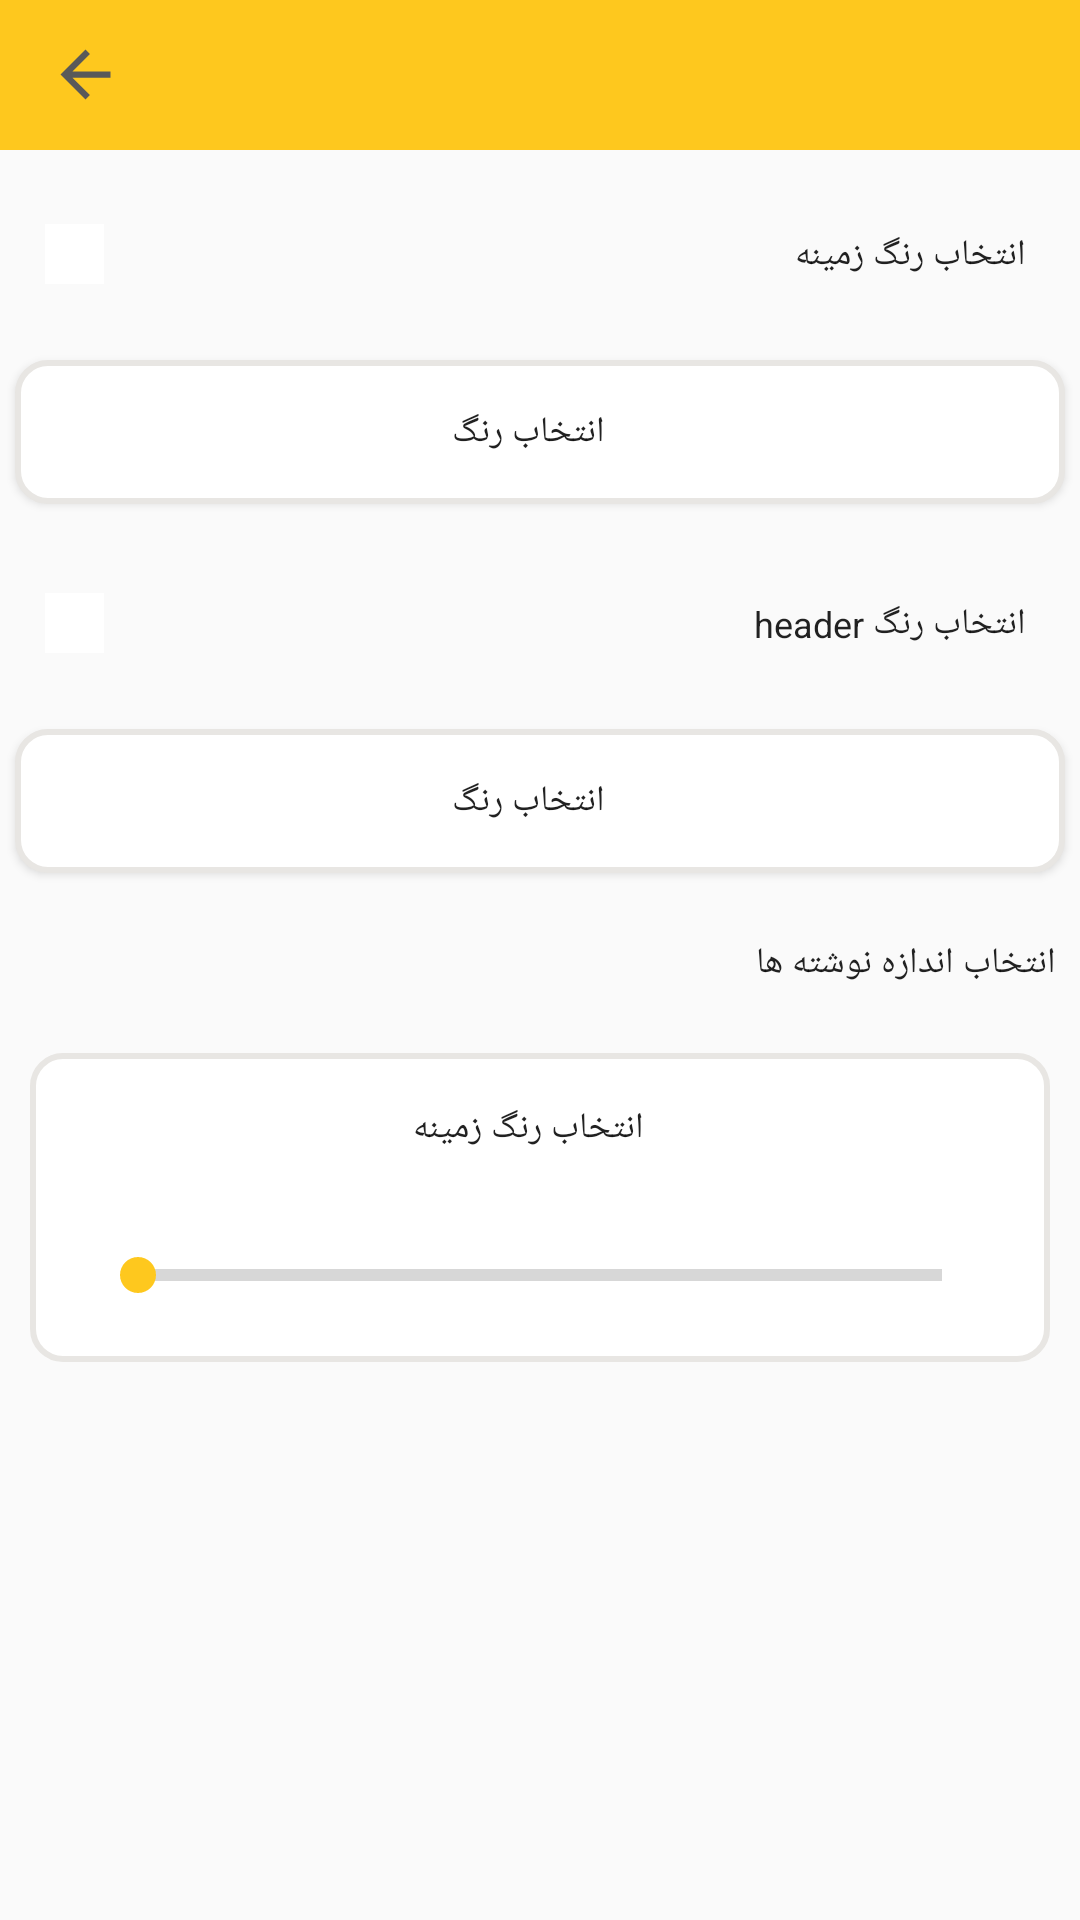

Icon bounding boxes for this 1080x1920 phone screenshot, format (x1, y1, x2, y2):
arrow back: (60, 49, 111, 100)
